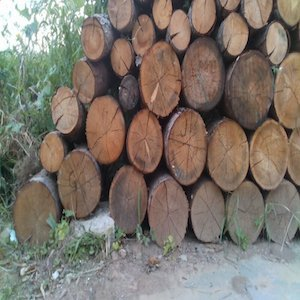combustible: (107, 7, 291, 209)
